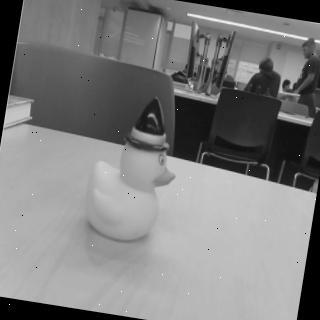duck_specialty: (79, 88, 190, 250)
